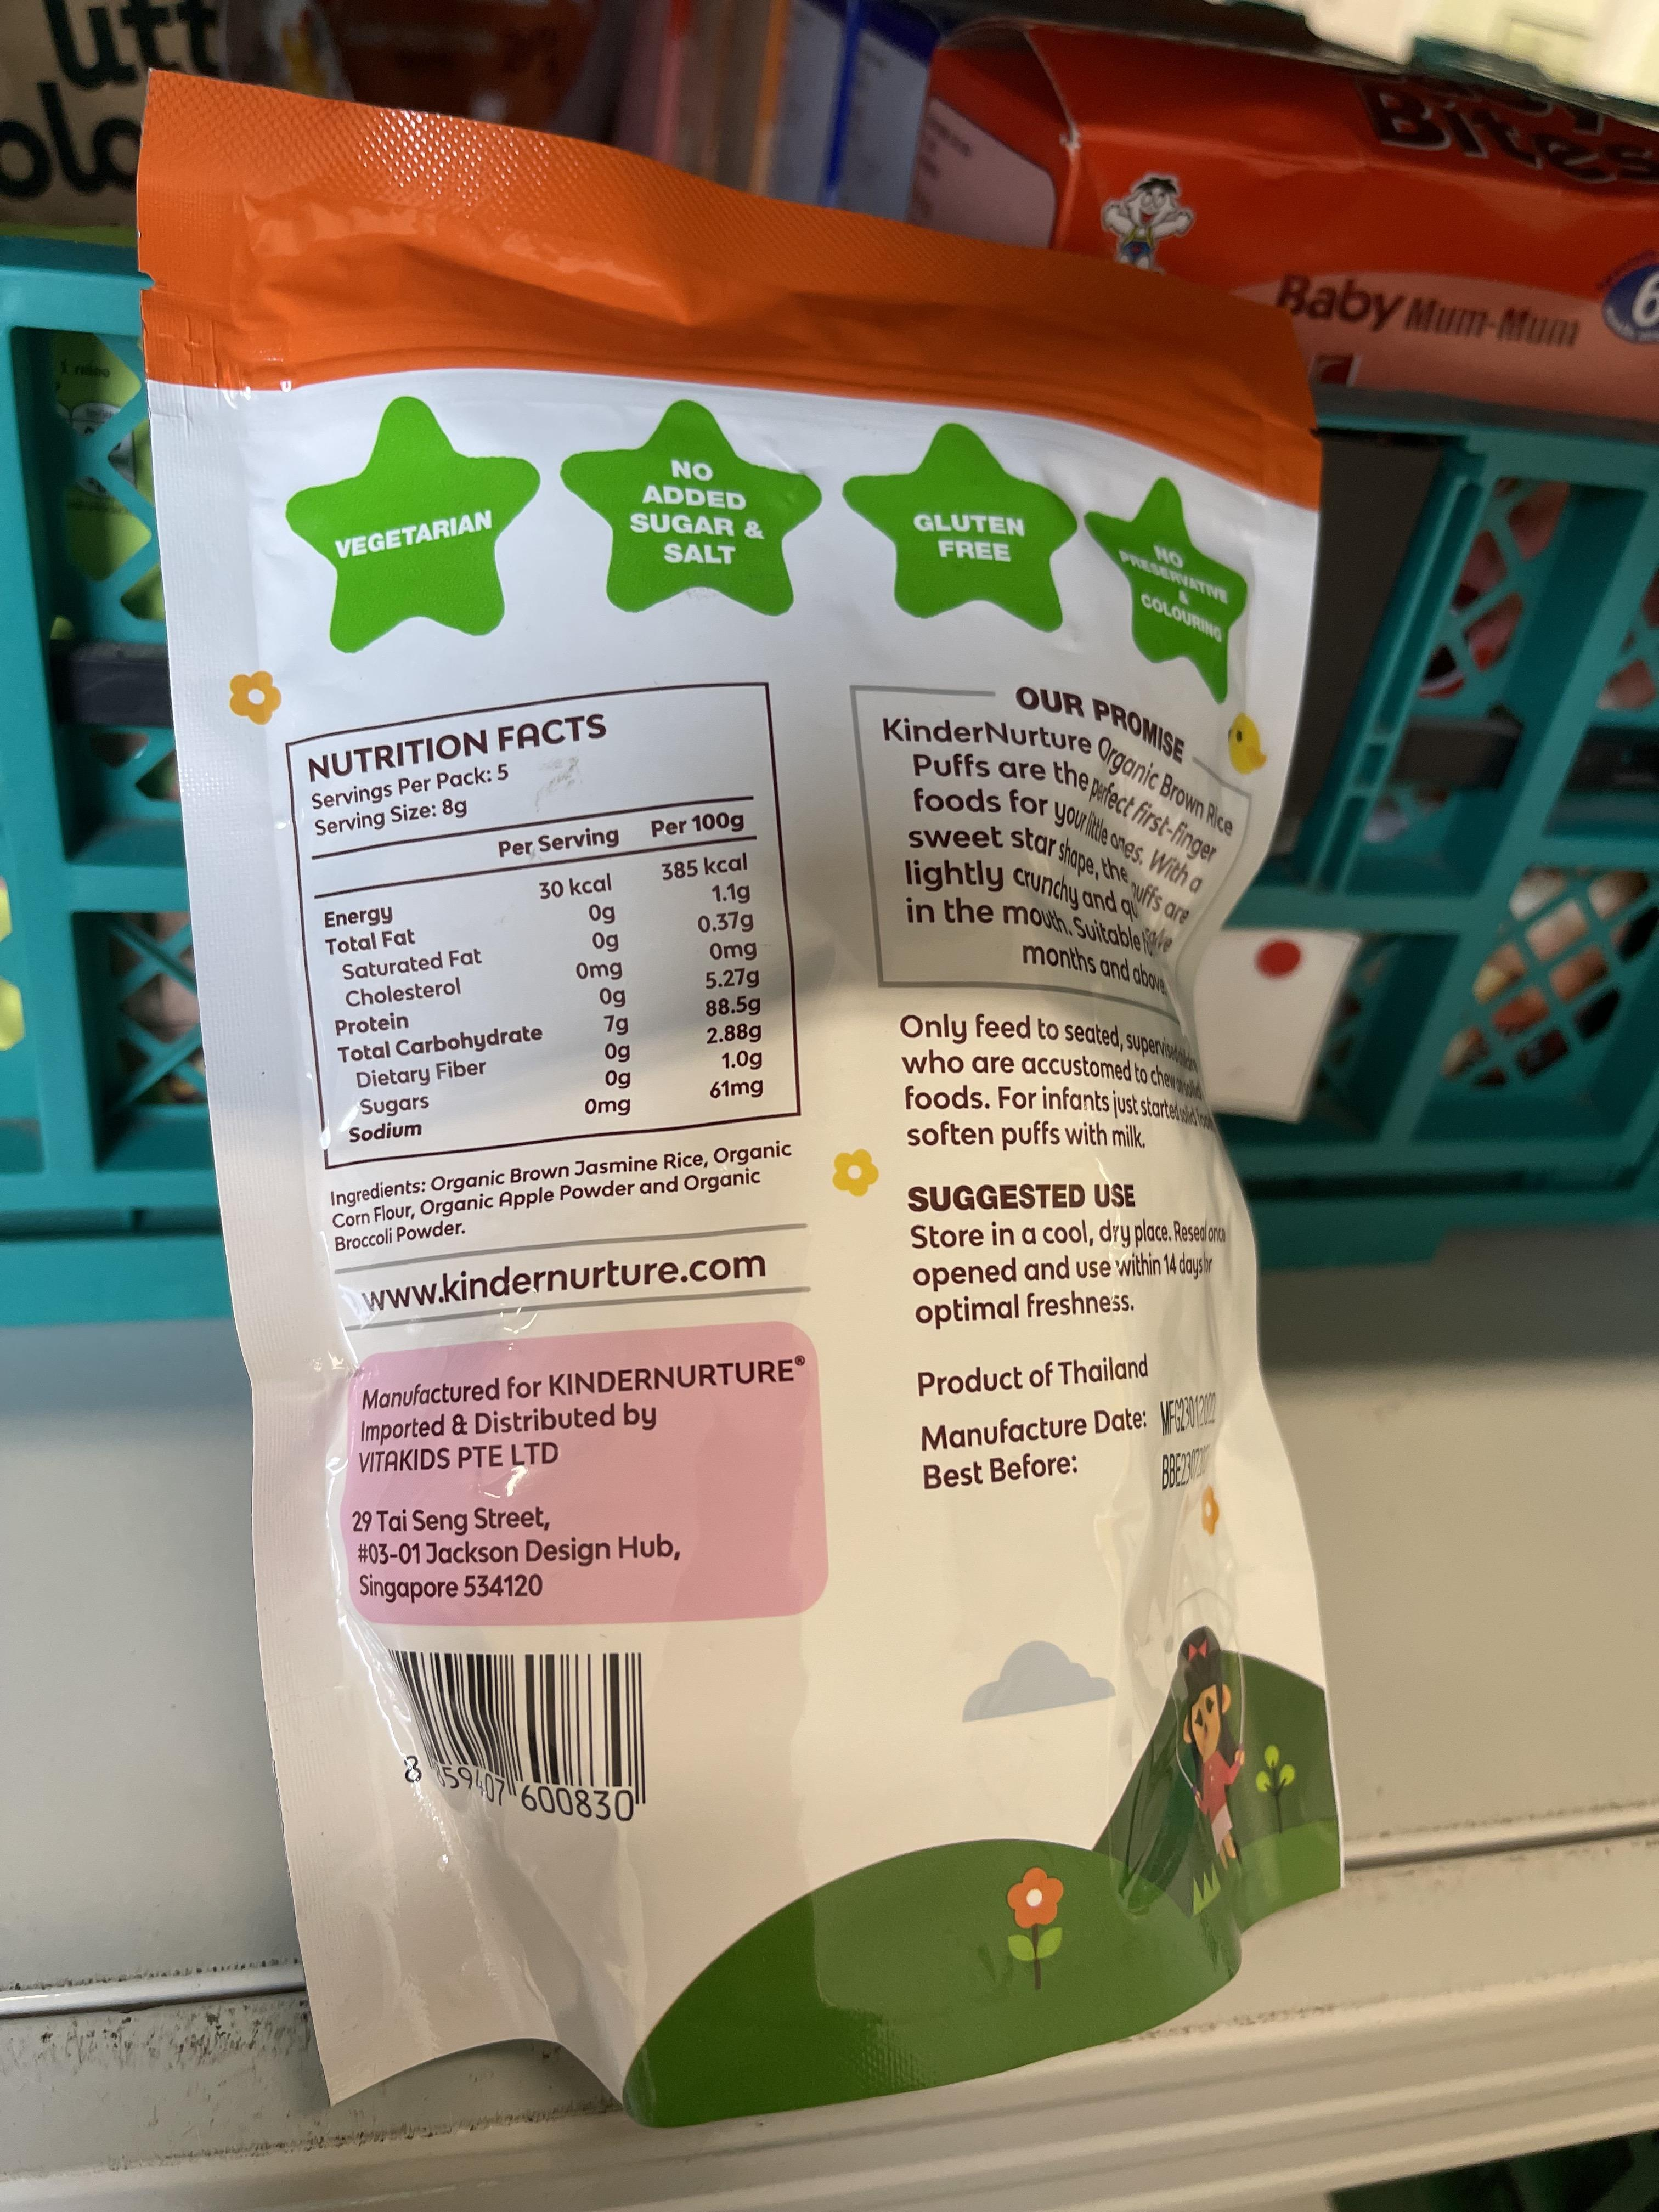object_name: (176, 352, 1290, 1918)
